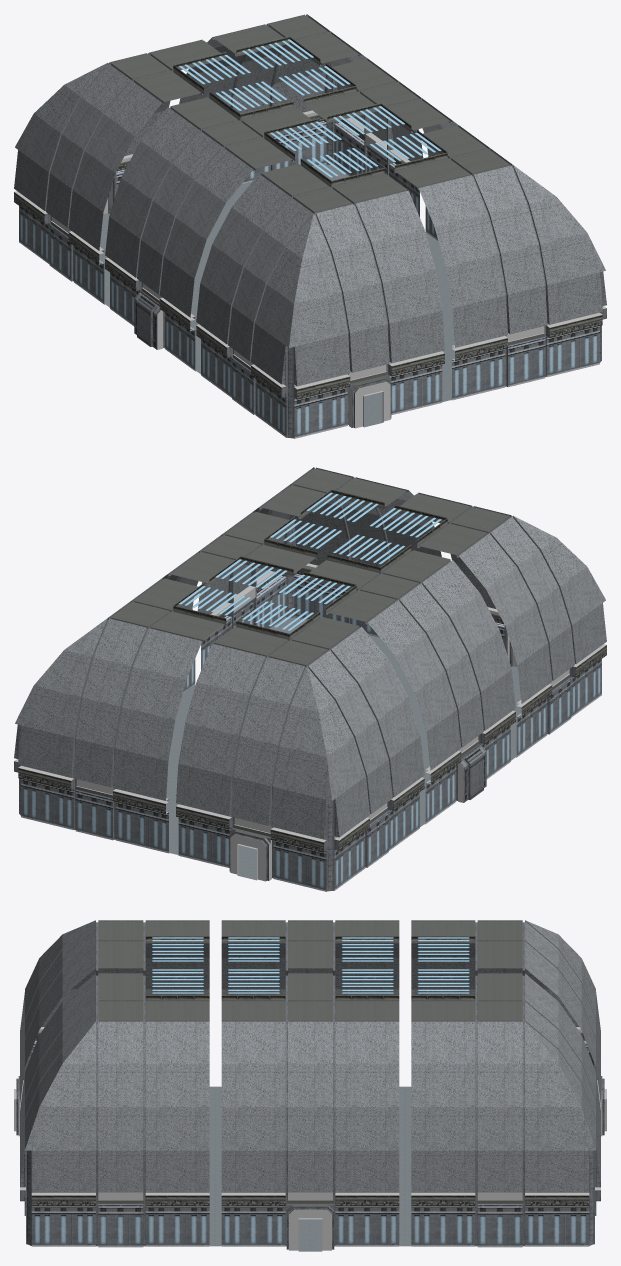
File: poi_all_impl_bunker_research_facility_s01_r7_researchlab1_mesh.fbx
3 views of the same model, one above another, from view 1: azimuth 30°, elevation 25°; view 2: azimuth 150°, elevation 25°; view 3: azimuth 270°, elevation 25° (orthographic). The views are drawn at different scales.
Parts seen in each view (by area): view 1: mesh_node; view 2: mesh_node; view 3: mesh_node.
Part boxes in pixels (bbox=[...]): mesh_node: bbox=[14, 14, 606, 438]; mesh_node: bbox=[14, 467, 606, 891]; mesh_node: bbox=[14, 920, 606, 1251].
Size of the model in its own units: 33.9 by 18.7 by 50.
